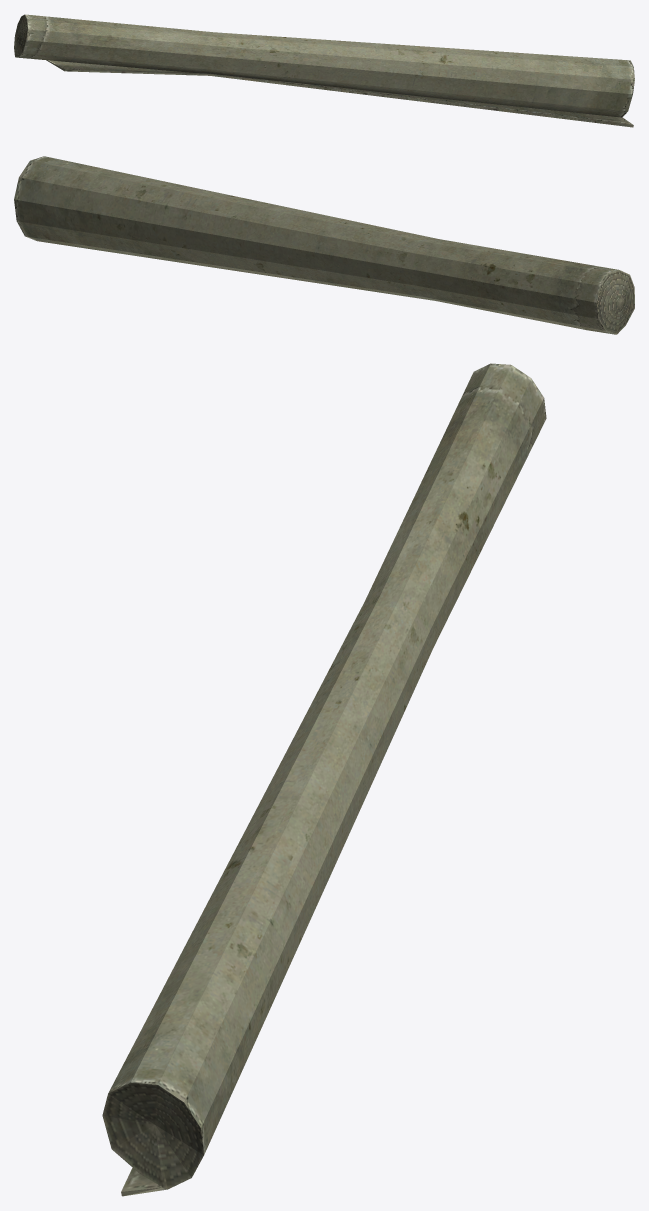
The model's file is Map.obj.
3 views of the same model, one above another, from view 1: azimuth 30°, elevation 25°; view 2: azimuth 150°, elevation 25°; view 3: azimuth 270°, elevation 25° (orthographic). The views are drawn at different scales.
Bounding box in the file's own units: 79.49 × 23.86 × 28.85.
Materials: 1 (1 with a texture image).
